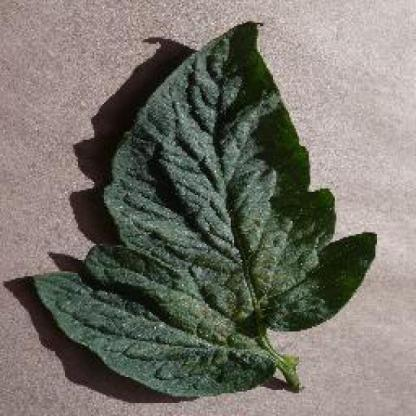Tomato_Spider_Mites: (37, 21, 378, 385)
